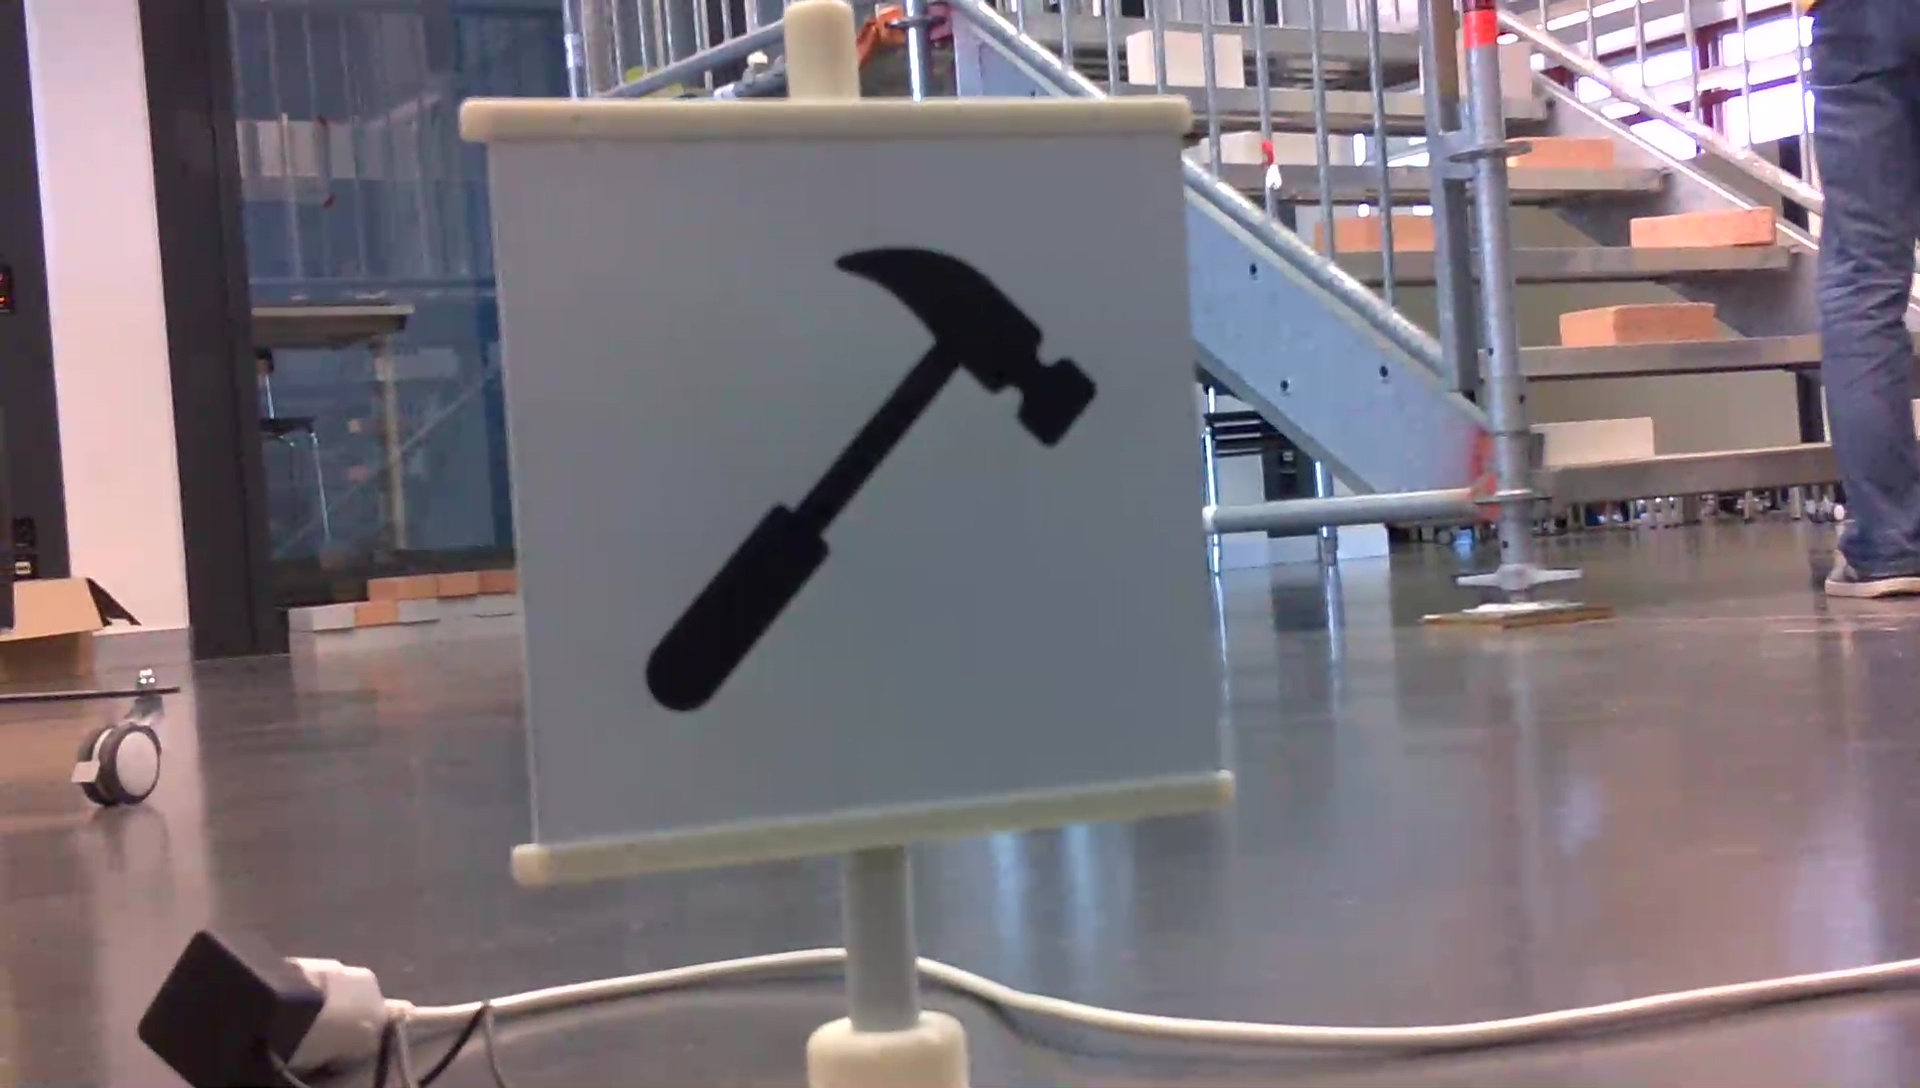brick: (1560, 305, 1713, 342), (1629, 212, 1774, 247), (1542, 421, 1652, 460), (1513, 136, 1613, 167), (1495, 44, 1528, 98)
hammer: (632, 243, 1102, 720)
